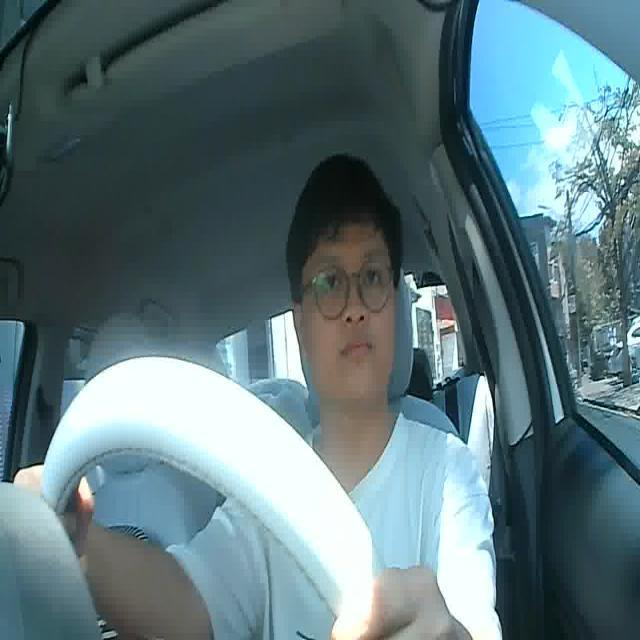Attentive: (284, 152, 405, 400)
Eye-Open: (361, 266, 384, 289), (318, 270, 340, 292)
Normal: (339, 333, 375, 369)
